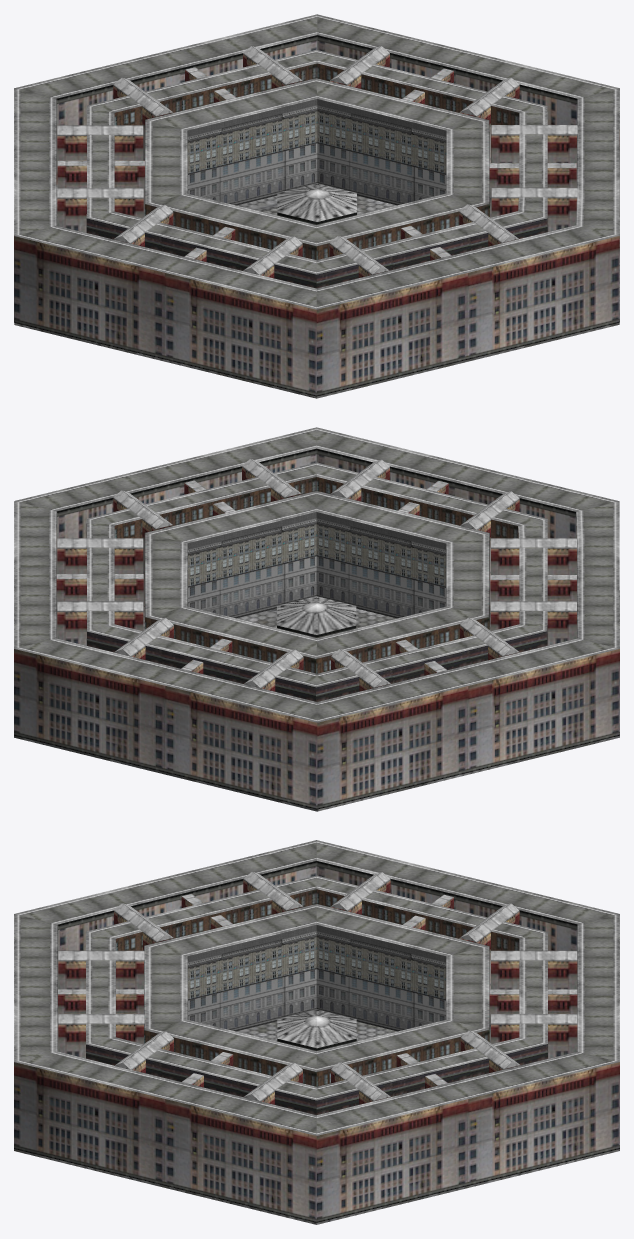
3 renders of one model, top to bottom at view 1: azimuth 30°, elevation 25°; view 2: azimuth 150°, elevation 25°; view 3: azimuth 270°, elevation 25°, orthographic.
Parts seen in each view (by area): view 1: base_18; view 2: base_18; view 3: base_18.
Boxes of the visible parts, x1,y1,x2,y2 form: base_18: (14, 14, 619, 398); base_18: (14, 427, 619, 811); base_18: (14, 840, 619, 1224).
Bounding box in the file's own units: 459 × 68.43 × 397.
